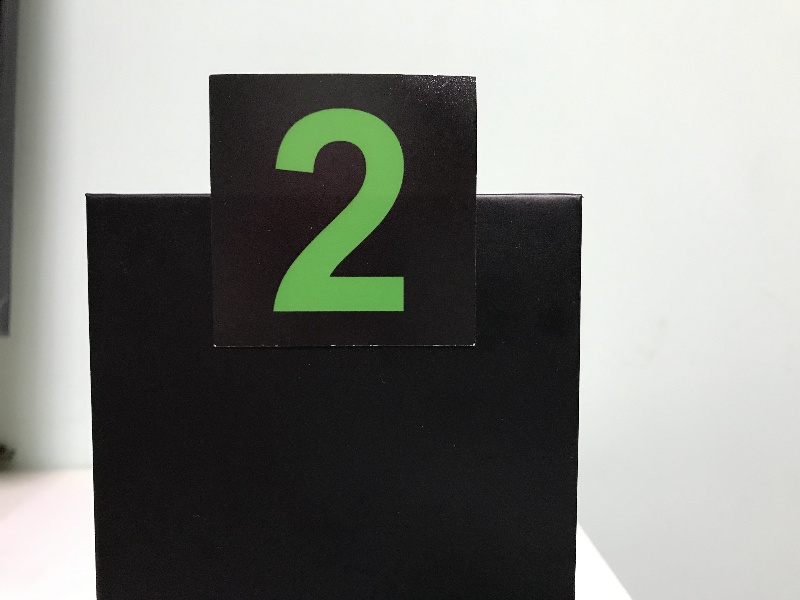Two-7: (216, 80, 471, 345)
